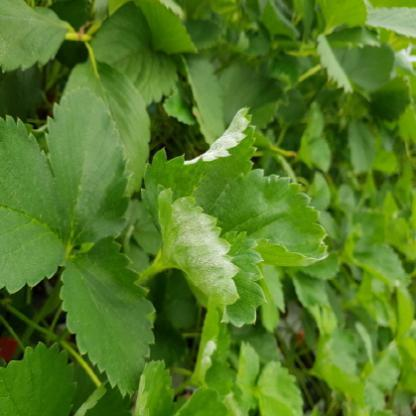Strawberry_Powdery_Mildew_Leaf: (156, 187, 268, 329), (140, 107, 258, 235), (191, 296, 235, 398)
